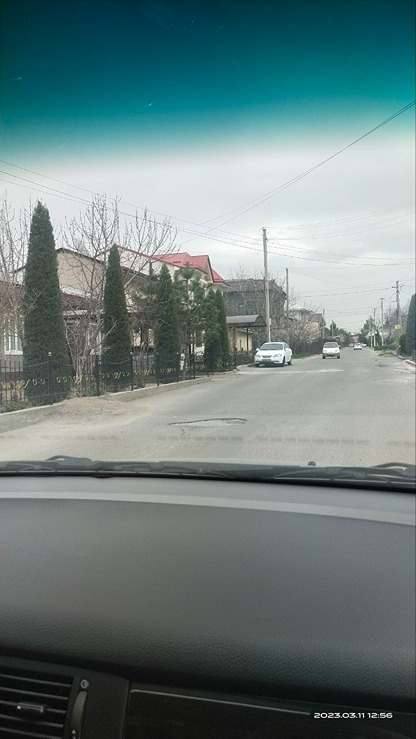car: (248, 325, 293, 366), (318, 336, 344, 360)
tree: (15, 209, 75, 402), (97, 237, 150, 381), (150, 263, 191, 375), (202, 276, 236, 374)
